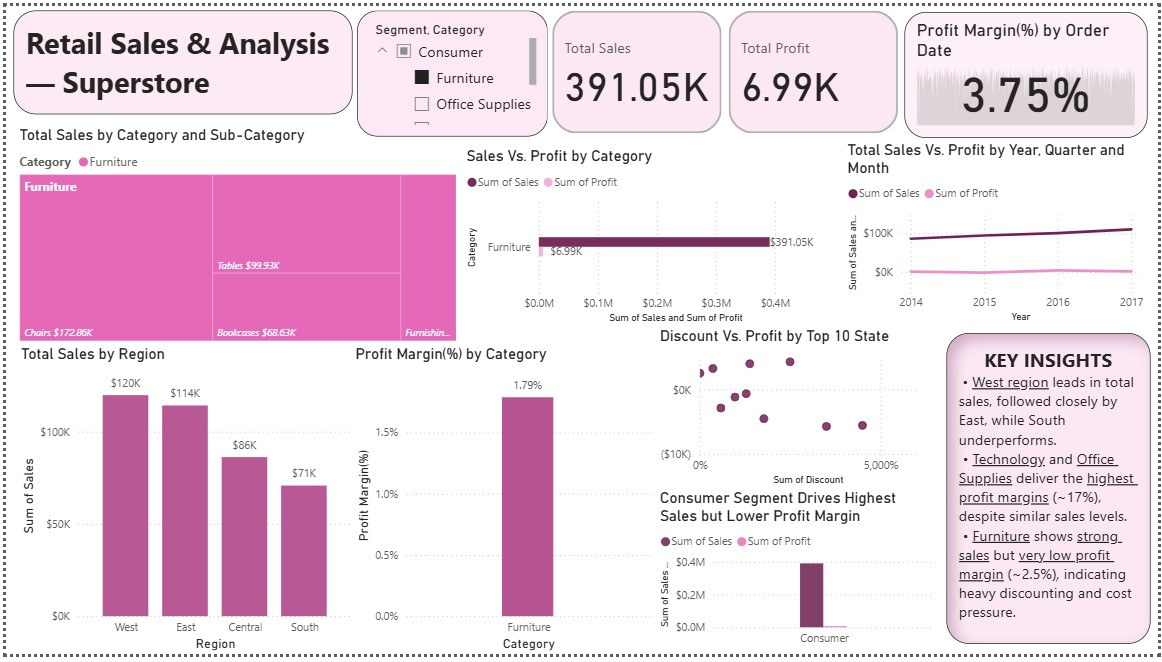

What the dashboard file says about the page in this screenshot:
{"tool":"powerbi","page":{"name":"Page 1","canvas":[1280,720],"ordinal":0},"visuals":[{"type":"treemap","title":"Total Sales by Category and Sub-Category","fields":{"Group":["Sample_ Superstore.Category"],"Values":["Sum(Sample_ Superstore.Sales)"],"Details":["Sample_ Superstore.Sub-Category"]},"box":[10,133.3,495,243.3],"z":0},{"type":"clusteredBarChart","title":"Sales Vs. Profit by Category","fields":{"Category":["Sample_ Superstore.Category"],"Y":["Sum(Sample_ Superstore.Sales)","Sum(Sample_ Superstore.Profit)"]},"box":[506,156,412,200],"z":1000},{"type":"columnChart","title":"Total Sales by Region","fields":{"Category":["Sample_ Superstore.Region"],"Y":["Sum(Sample_ Superstore.Sales)"]},"box":[12,376,378,344],"z":2000},{"type":"lineChart","title":"Total Sales Vs. Profit by Year, Quarter and Month","fields":{"Category":["Sample_ Superstore.Order Date.Variation.Date Hierarchy.Year","Sample_ Superstore.Order Date.Variation.Date Hierarchy.Quarter","Sample_ Superstore.Order Date.Variation.Date Hierarchy.Month","Sample_ Superstore.Order Date.Variation.Date Hierarchy.Day"],"Y":["Sum(Sample_ Superstore.Sales)","Sum(Sample_ Superstore.Profit)"]},"box":[930,150,338,206],"z":3000},{"type":"clusteredColumnChart","title":"Consumer Segment Drives Highest Sales but Lower Profit Margin","fields":{"Category":["Sample_ Superstore.Segment"],"Y":["Sum(Sample_ Superstore.Sales)","Sum(Sample_ Superstore.Profit)"]},"box":[721.7,536.7,315,183.3],"z":4000},{"type":"scatterChart","title":"Discount Vs. Profit by Top 10 State","fields":{"Category":["Sample_ Superstore.State"],"X":["Sum(Sample_ Superstore.Discount)"],"Y":["Sum(Sample_ Superstore.Profit)"]},"box":[721.7,356.7,315,180],"z":5000},{"type":"slicer","fields":{"Values":["Sample_ Superstore.Segment","Sample_ Superstore.Category"]},"box":[390,5,211.7,140],"z":6000},{"type":"textbox","box":[8.3,5,376.7,115],"z":7000},{"type":"kpi","fields":{"Indicator":["Sample_Superstore.Profit Margin %"],"TrendLine":["Sample_Superstore.Order Date"]},"box":[998,6,270,140],"z":8000},{"type":"cardVisual","fields":{"Data":["Sample_Superstore.Total Sales","Sample_Superstore.Total Profit"]},"box":[602,0,394,146],"z":9000},{"type":"clusteredColumnChart","fields":{"Y":["Sample_Superstore.Profit Margin(%)"],"Category":["Sample_Superstore.Category"]},"box":[384,376,338,344],"z":10000},{"type":"textbox","box":[1045,363.3,226.7,345],"z":11000}]}

Visuals, with their boxes in screenshot pixels (x1, y1, x2, y2), scaled from the page's 1280x720 canvas onto the 1162x662 screenshot:
"Total Sales by Category and Sub-Category" treemap: detection(9, 123, 458, 346)
"Sales Vs. Profit by Category" clusteredBarChart: detection(459, 143, 833, 327)
"Total Sales by Region" columnChart: detection(11, 346, 354, 661)
"Total Sales Vs. Profit by Year, Quarter and Month" lineChart: detection(844, 138, 1151, 327)
"Consumer Segment Drives Highest Sales but Lower Profit Margin" clusteredColumnChart: detection(655, 493, 941, 661)
"Discount Vs. Profit by Top 10 State" scatterChart: detection(655, 328, 941, 493)
slicer - Sample_ Superstore.Segment x Sample_ Superstore.Category: detection(354, 5, 546, 133)
textbox: detection(8, 5, 350, 110)
kpi - Sample_Superstore.Profit Margin % x Sample_Superstore.Order Date: detection(906, 6, 1151, 134)
cardVisual - Sample_Superstore.Total Sales x Sample_Superstore.Total Profit: detection(547, 0, 904, 134)
clusteredColumnChart - Sample_Superstore.Profit Margin(%) x Sample_Superstore.Category: detection(349, 346, 655, 661)
textbox: detection(949, 334, 1154, 651)
